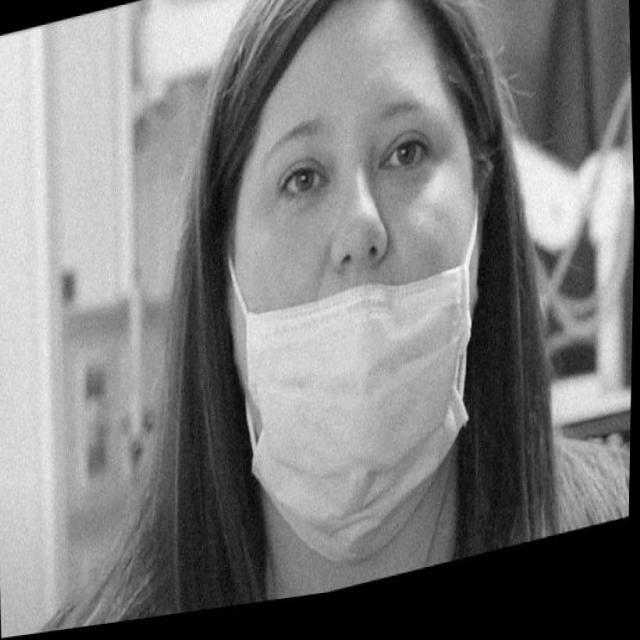hairnet: (237, 82, 480, 585)
